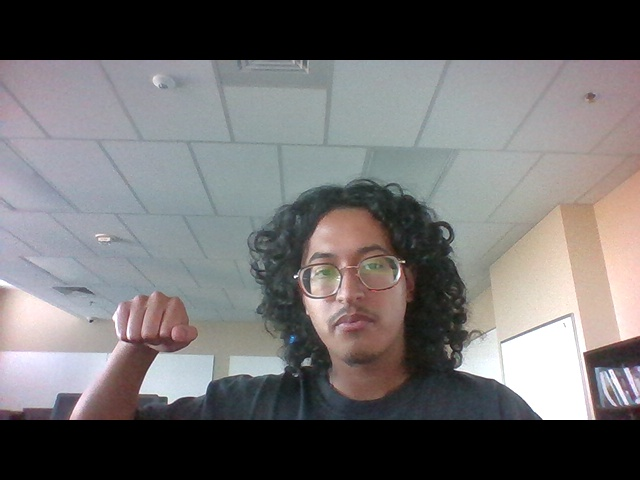yes: (97, 284, 207, 358)
